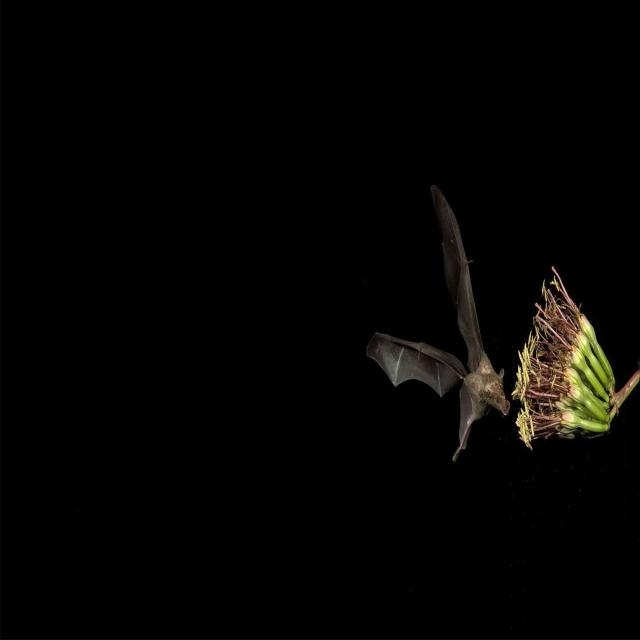bat: (368, 185, 509, 459)
